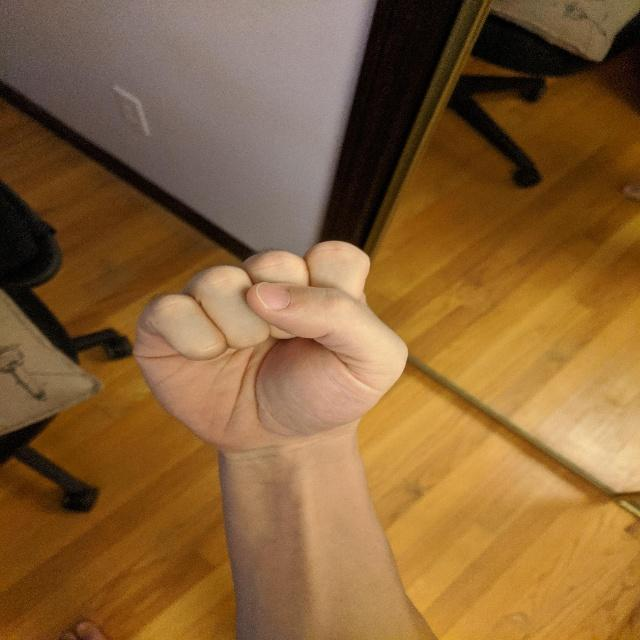S: (126, 237, 414, 455)
